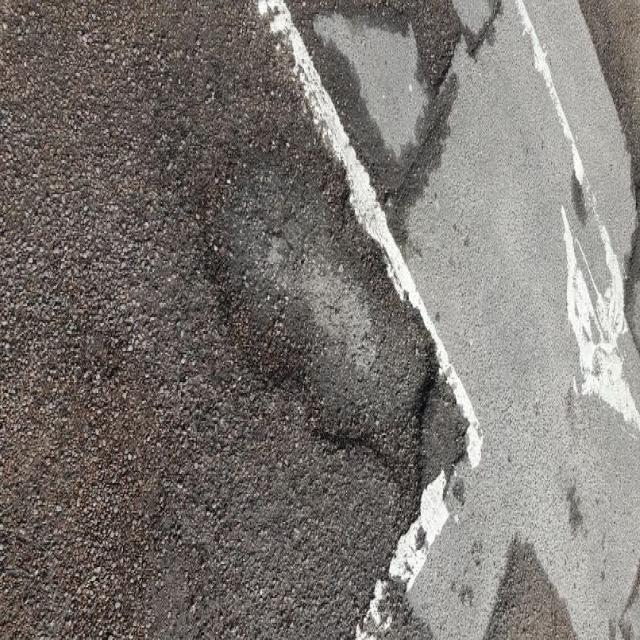Pothole: (193, 121, 444, 517)
